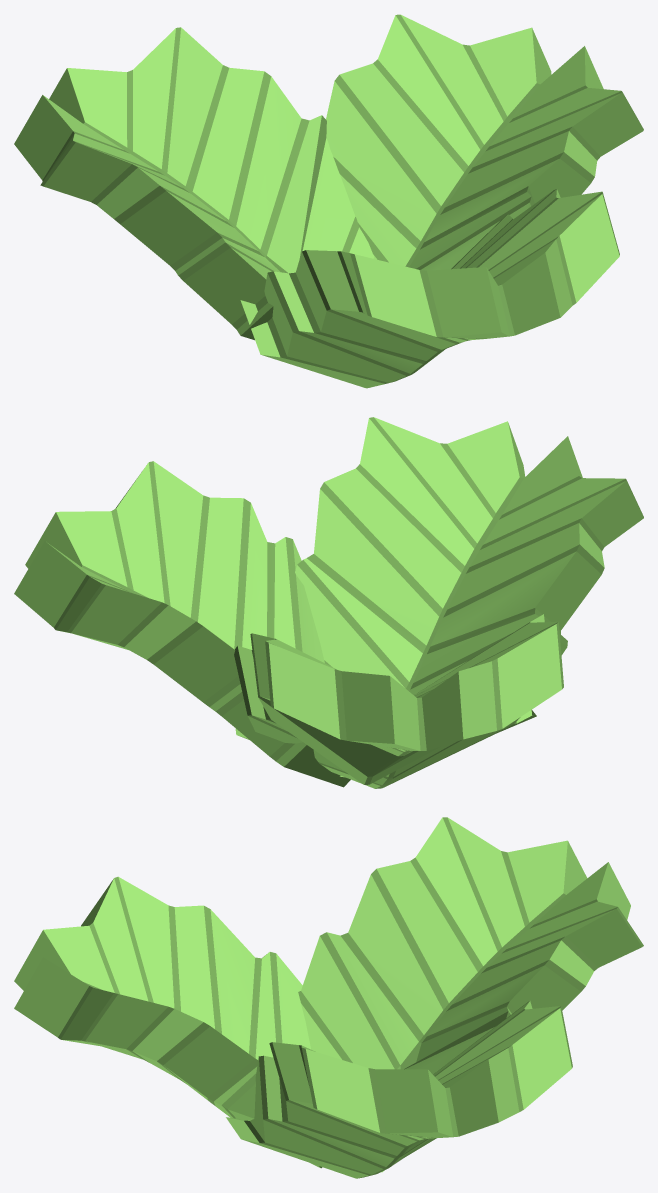
File: Strawberry_plant_s2.fbx
3 views of the same model, one above another, from view 1: azimuth 30°, elevation 25°; view 2: azimuth 150°, elevation 25°; view 3: azimuth 270°, elevation 25° (orthographic). The views are drawn at different scales.
Visible parts, largest first — view 1: strawberry.001; view 2: strawberry.001; view 3: strawberry.001.
Boxes of the visible parts, box(x1,y1,x2,y2) form: strawberry.001: box(14, 14, 643, 388); strawberry.001: box(14, 417, 643, 788); strawberry.001: box(14, 817, 643, 1178).
Bounding box in the file's own units: 1483 × 663 × 1558.
